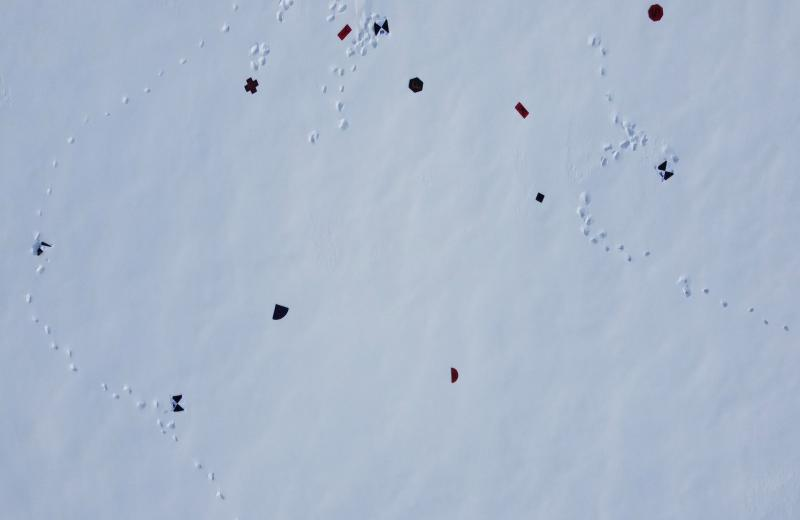Cross: (244, 76, 260, 95)
Hexagon: (407, 76, 424, 94)
Octagon: (648, 2, 664, 23)
Quarter Circle: (269, 301, 290, 322)
Rectangle: (336, 22, 353, 44), (515, 101, 530, 121)
Semi Circle: (448, 366, 460, 386)
Square: (535, 190, 546, 204)
